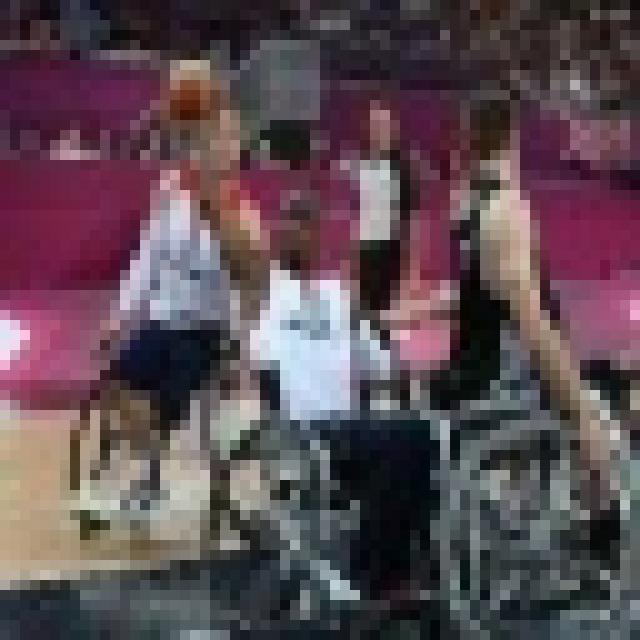wheelchairs: (449, 373, 640, 640), (214, 403, 441, 625), (64, 320, 274, 533)
